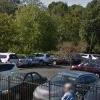Tree: (11, 0, 100, 46)
